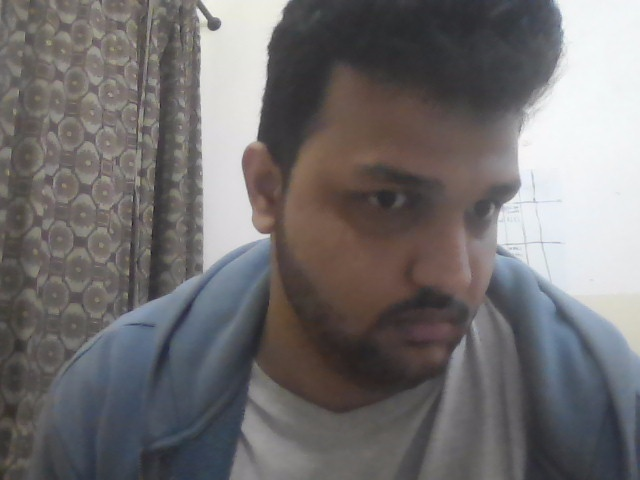awake: (193, 26, 640, 435)
